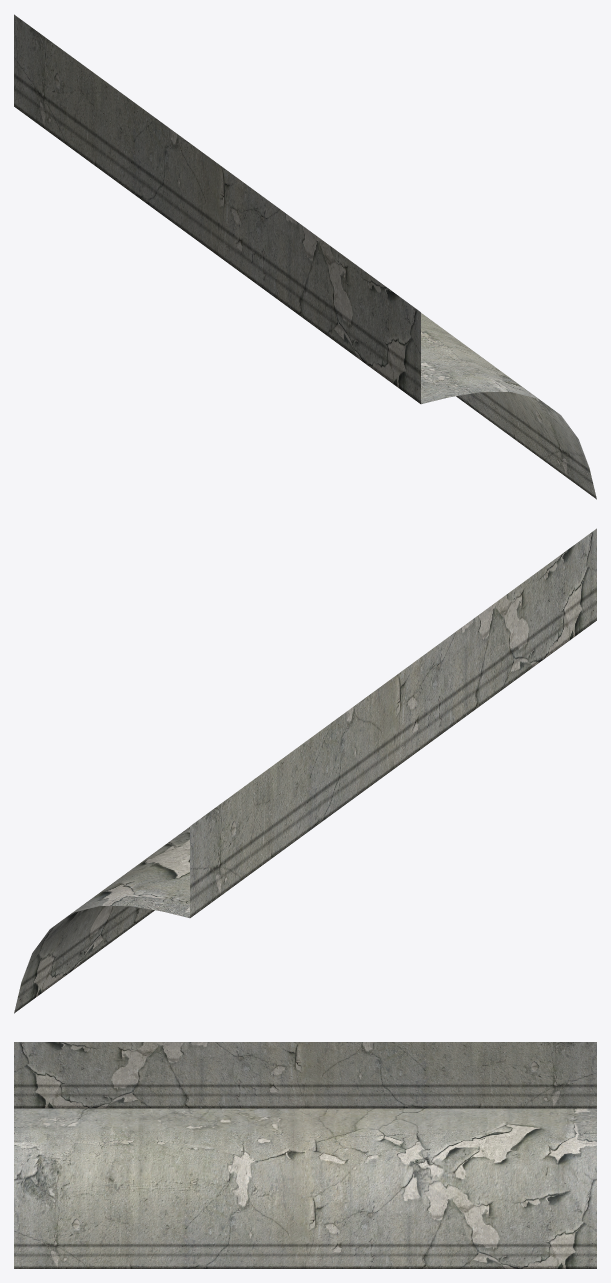
Rendered from urban_damaged_deco_default_ceiling.dae.
The picture shows the model from 3 angles, top to bottom: view 1: azimuth 30°, elevation 25°; view 2: azimuth 150°, elevation 25°; view 3: azimuth 270°, elevation 25°; orthographic projection. The views are drawn at different scales.
Parts seen in each view (by area): view 1: polySurface774; view 2: polySurface774; view 3: polySurface774.
Part boxes in pixels (left/top/right/bottom): polySurface774: left=14, top=14, right=596, bottom=499; polySurface774: left=14, top=528, right=596, bottom=1013; polySurface774: left=14, top=1042, right=596, bottom=1268.
Size of the model in its own units: 1 by 1.25 by 4.
